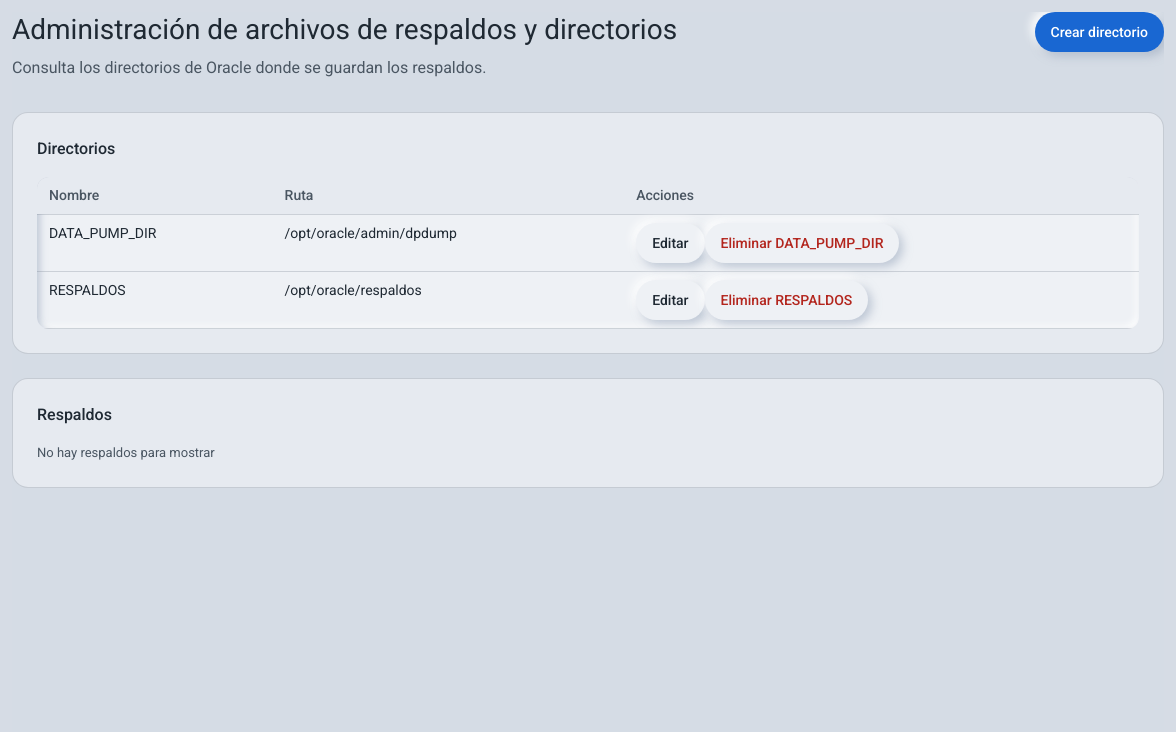
Test: crear directorio › ante 500 muestra el mensaje, la explicación y el error y no recarga la lista
Expected: the text "RESPALDOS" is shown, [37,272,273,328]
Click the button "Crear directorio": click(1099, 32) [1035,12,1164,52]
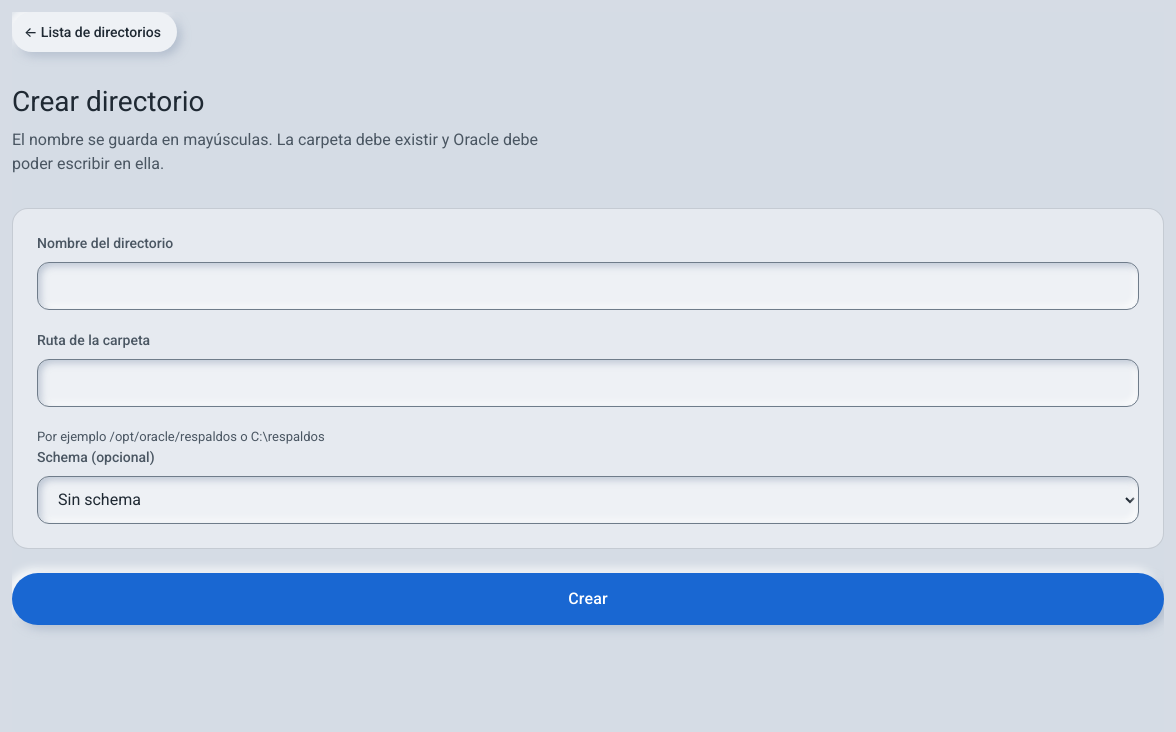
In the field labelled "Nombre del directorio": (588, 286) [37,262,1139,310], type "nuevo"
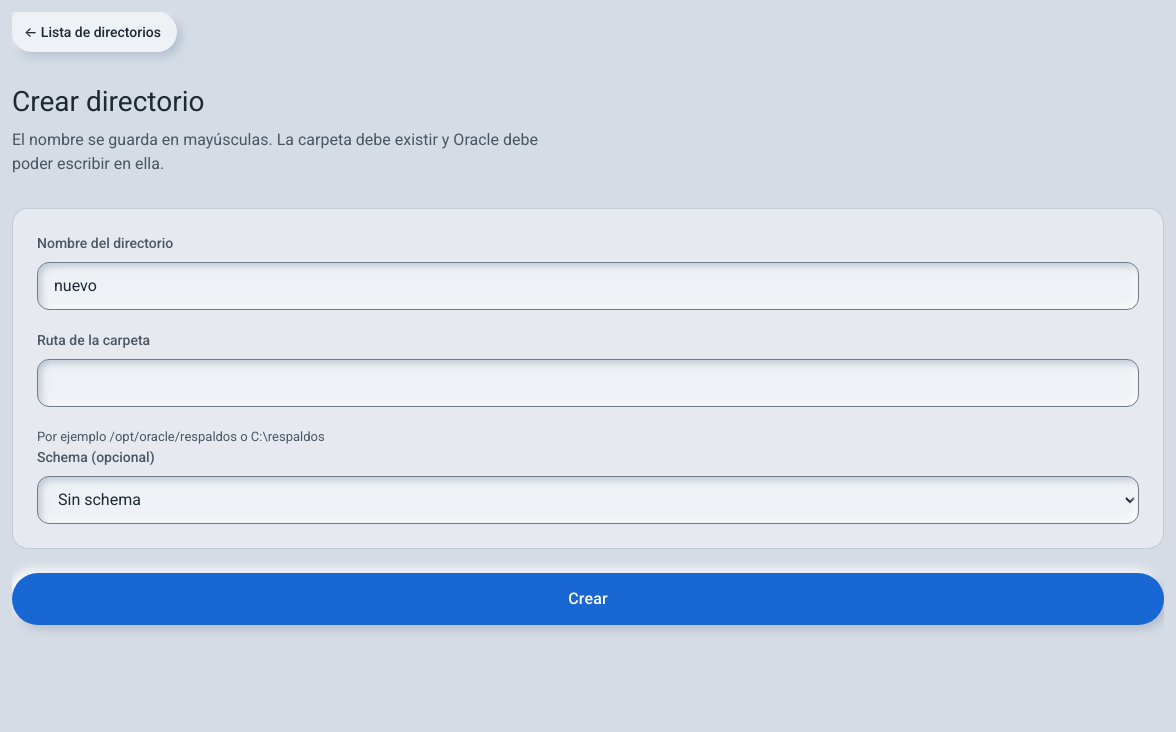
In the field labelled "Ruta de la carpeta": (588, 383) [37,359,1139,407], type "/opt/oracle/nuevo"
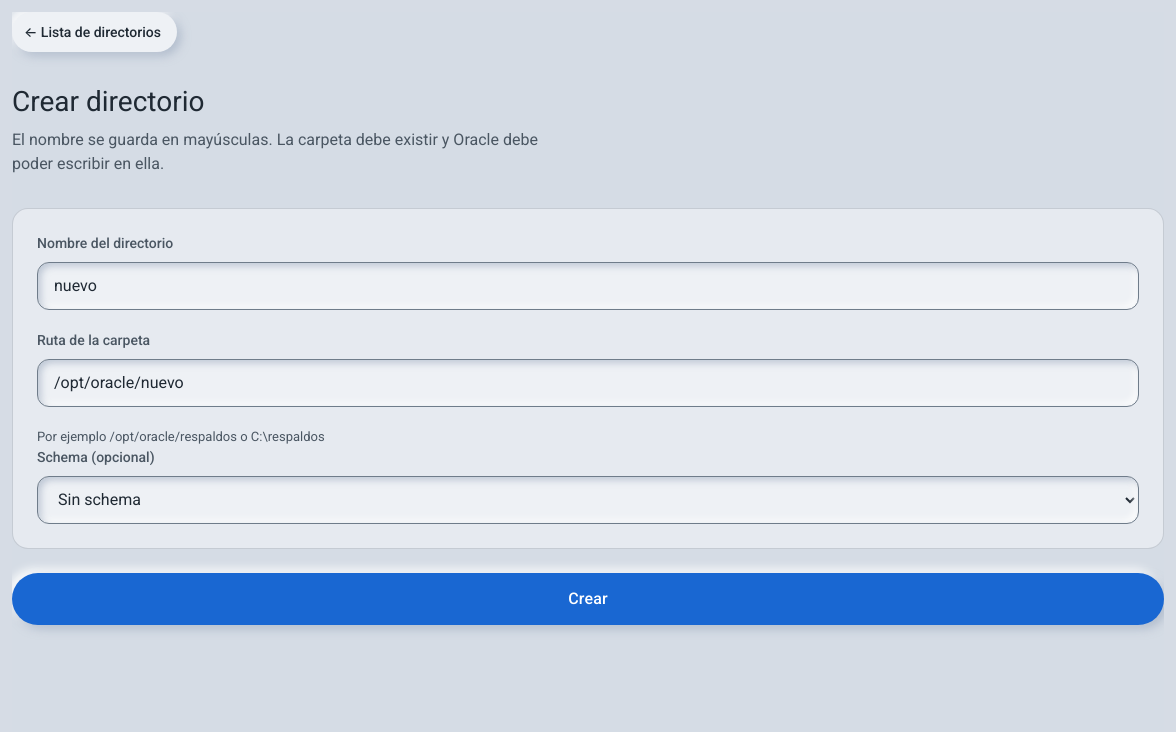
Click the button "Crear": click(588, 598) [12,572,1164,624]
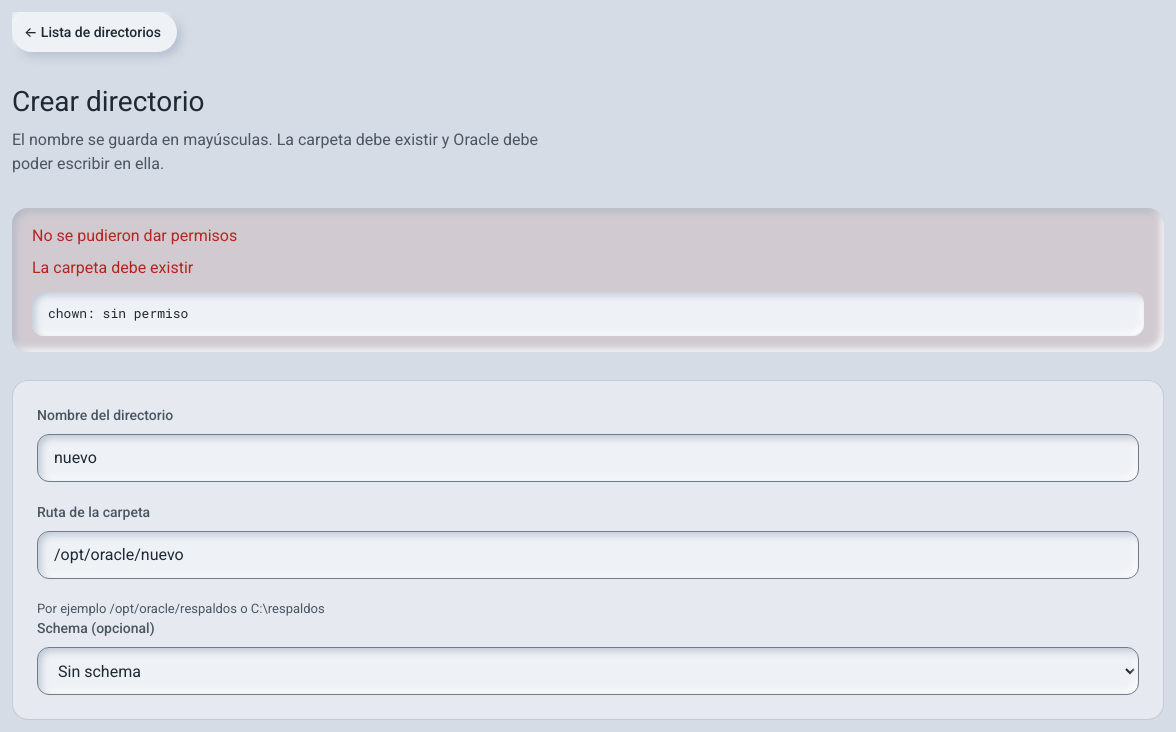
Expected: the message shows "No se pudieron dar permisos", [32,226,237,245]
Expected: the message shows "La carpeta debe existir", [32,258,193,277]
Expected: the message shows "chown: sin permiso", [48,304,188,322]
